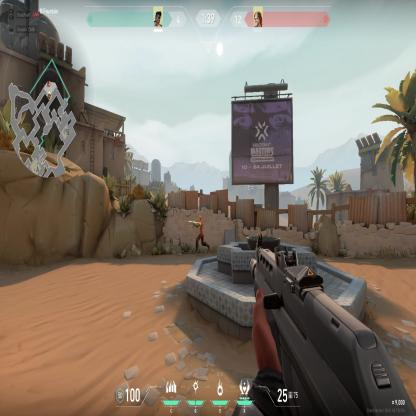enemy: (192, 214, 210, 253)
